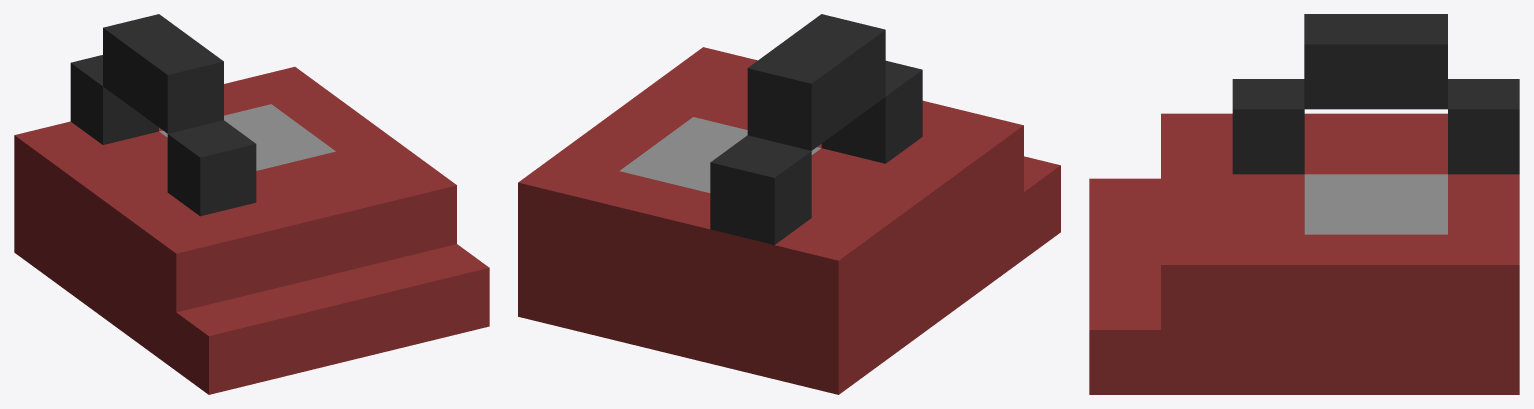
File: Phone.obj
The picture shows the model from 3 angles, left to right: view 1: azimuth 30°, elevation 25°; view 2: azimuth 150°, elevation 25°; view 3: azimuth 270°, elevation 25°; orthographic projection. The views are drawn at different scales.
Visible parts, largest first — view 1: Phone; view 2: Phone; view 3: Phone.
Part boxes in pixels (x1,y1,x2,y2): Phone: [14, 14, 489, 394]; Phone: [518, 14, 1060, 394]; Phone: [1089, 14, 1519, 394].
Size of the model in its own units: 5 by 4 by 6.
Materials: 1 (1 with a texture image).
